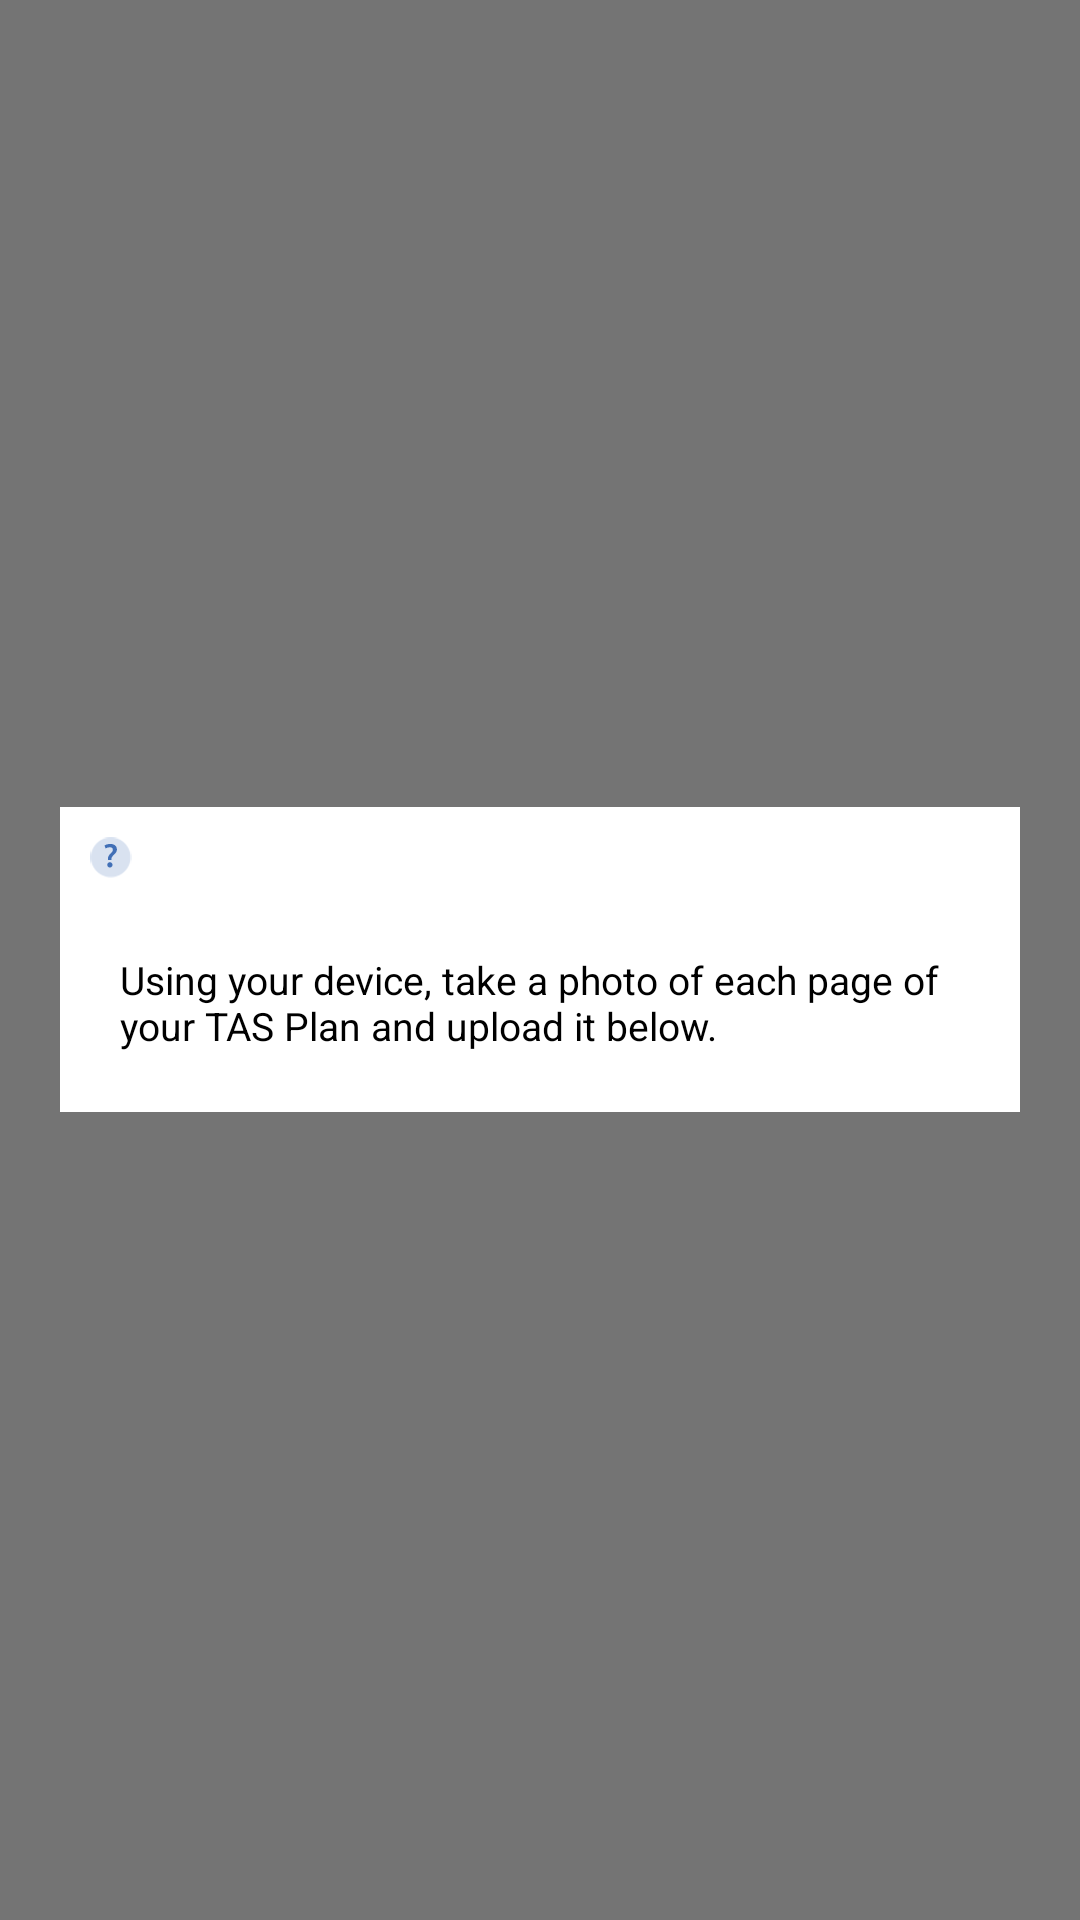

Named icons in this screenshot (1080w x 1920h) and their bounding boxes, (left=x1, top=y1, right=x2, bottom=y2):
question: (left=90, top=837, right=130, bottom=877)
